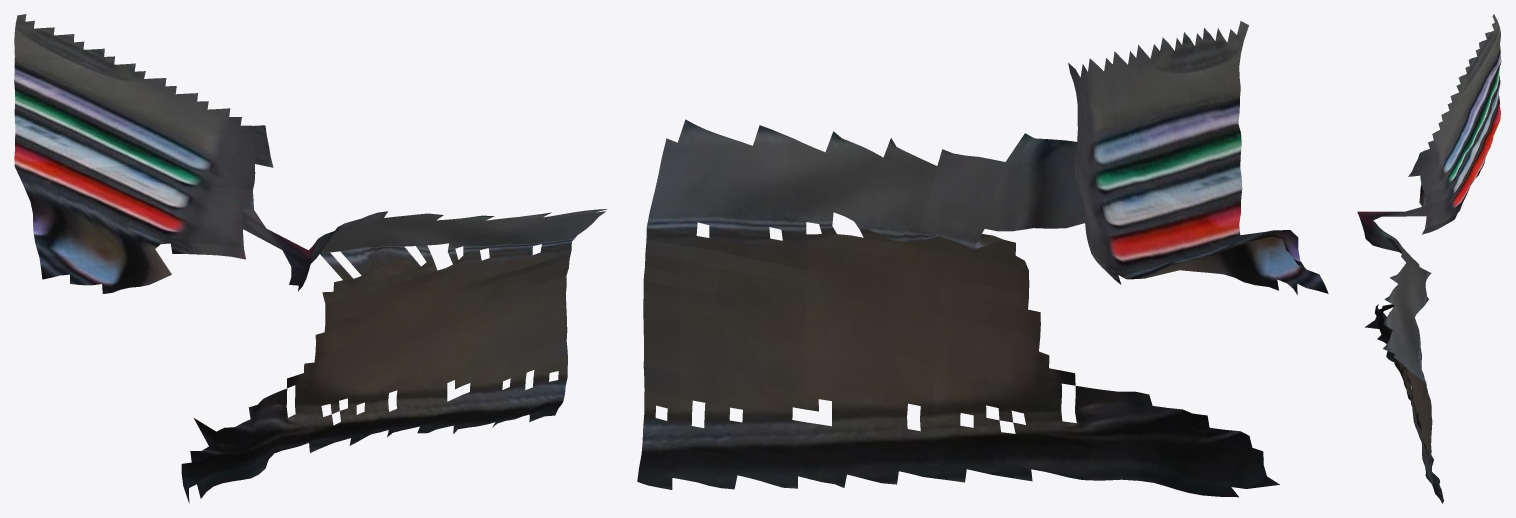
File: observed-surface.glb
3 views of the same model, side by side, from view 1: azimuth 30°, elevation 25°; view 2: azimuth 150°, elevation 25°; view 3: azimuth 270°, elevation 25° (orthographic). The views are drawn at different scales.
Parts seen in each view (by area): view 1: geometry_0; view 2: geometry_0; view 3: geometry_0.
Part boxes in pixels (x1,y1,x2,y2): geometry_0: (14, 14, 607, 503); geometry_0: (637, 21, 1328, 497); geometry_0: (1357, 14, 1501, 503).
Bounding box in the file's own units: 0.534 × 0.4746 × 0.1891.
1 material, 1 textured.
